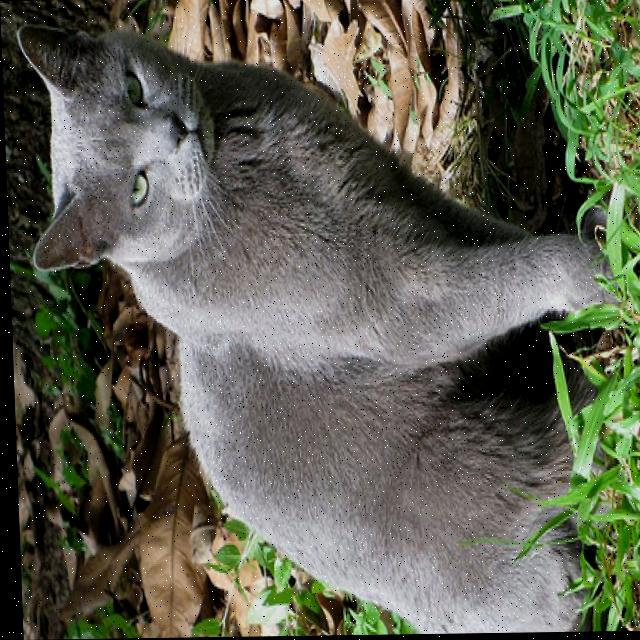Russian Blue: (6, 13, 630, 640)
